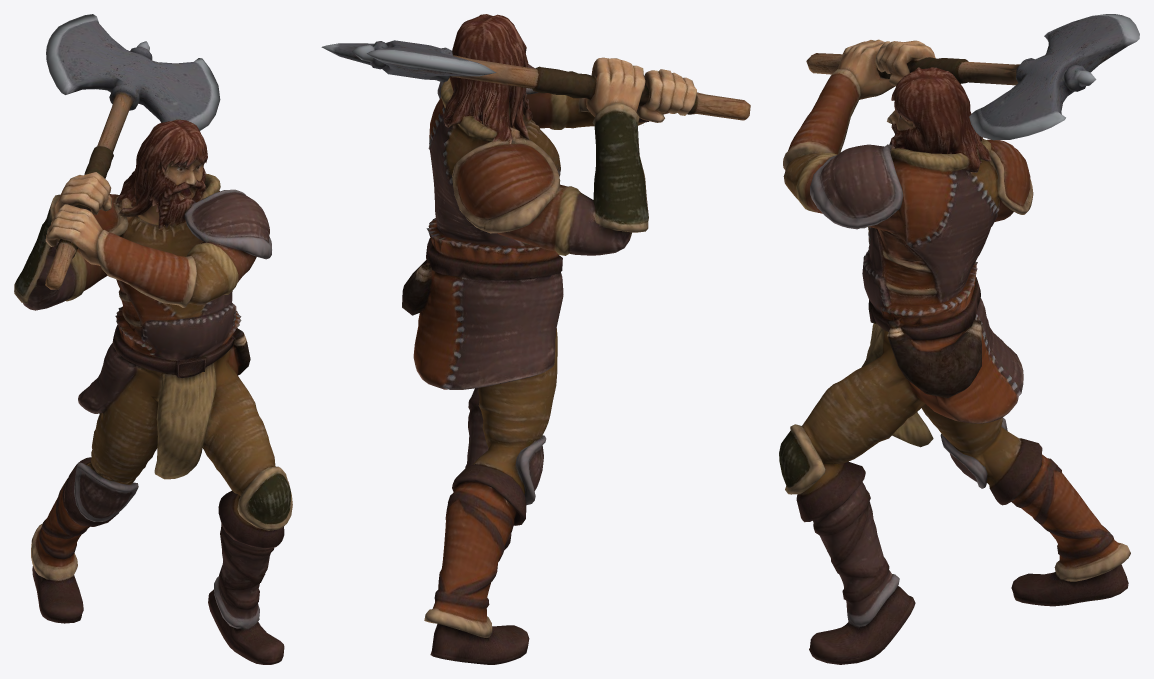
Rendered from MZ4250 - Berserker 01.glb.
The picture shows the model from 3 angles, left to right: view 1: azimuth 30°, elevation 25°; view 2: azimuth 150°, elevation 25°; view 3: azimuth 270°, elevation 25°; orthographic projection. The views are drawn at different scales.
Parts seen in each view (by area): view 1: Berserker; view 2: Berserker; view 3: Berserker.
Boxes of the visible parts, x1,y1,x2,y2 form: Berserker: [14, 14, 292, 664]; Berserker: [321, 14, 750, 664]; Berserker: [779, 14, 1139, 664].
Size of the model in its own units: 0.6101 by 1.19 by 0.6455.
1 material, 1 textured.
